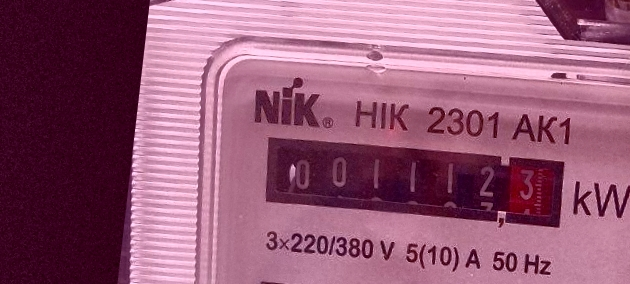0: (325, 151, 352, 191), (289, 154, 315, 191)
1: (365, 152, 387, 192), (402, 156, 421, 195), (440, 158, 459, 196)
2: (473, 162, 499, 200)
3: (514, 165, 536, 202)
screen: (253, 123, 573, 239)
